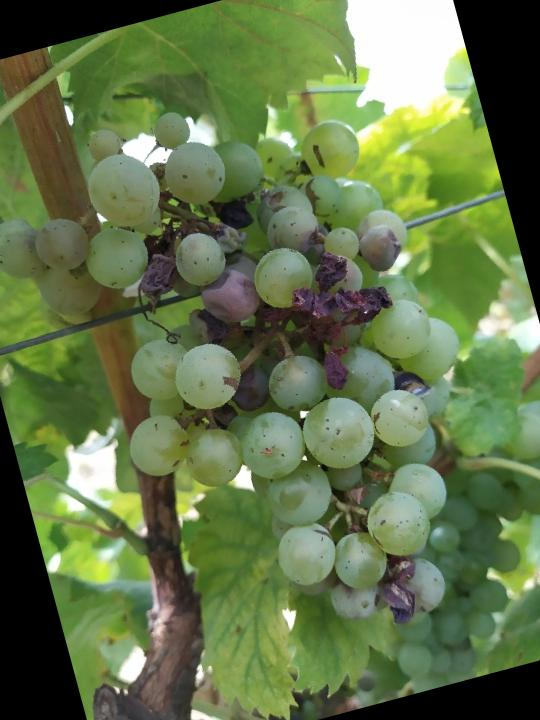grape: (0, 51, 529, 706)
